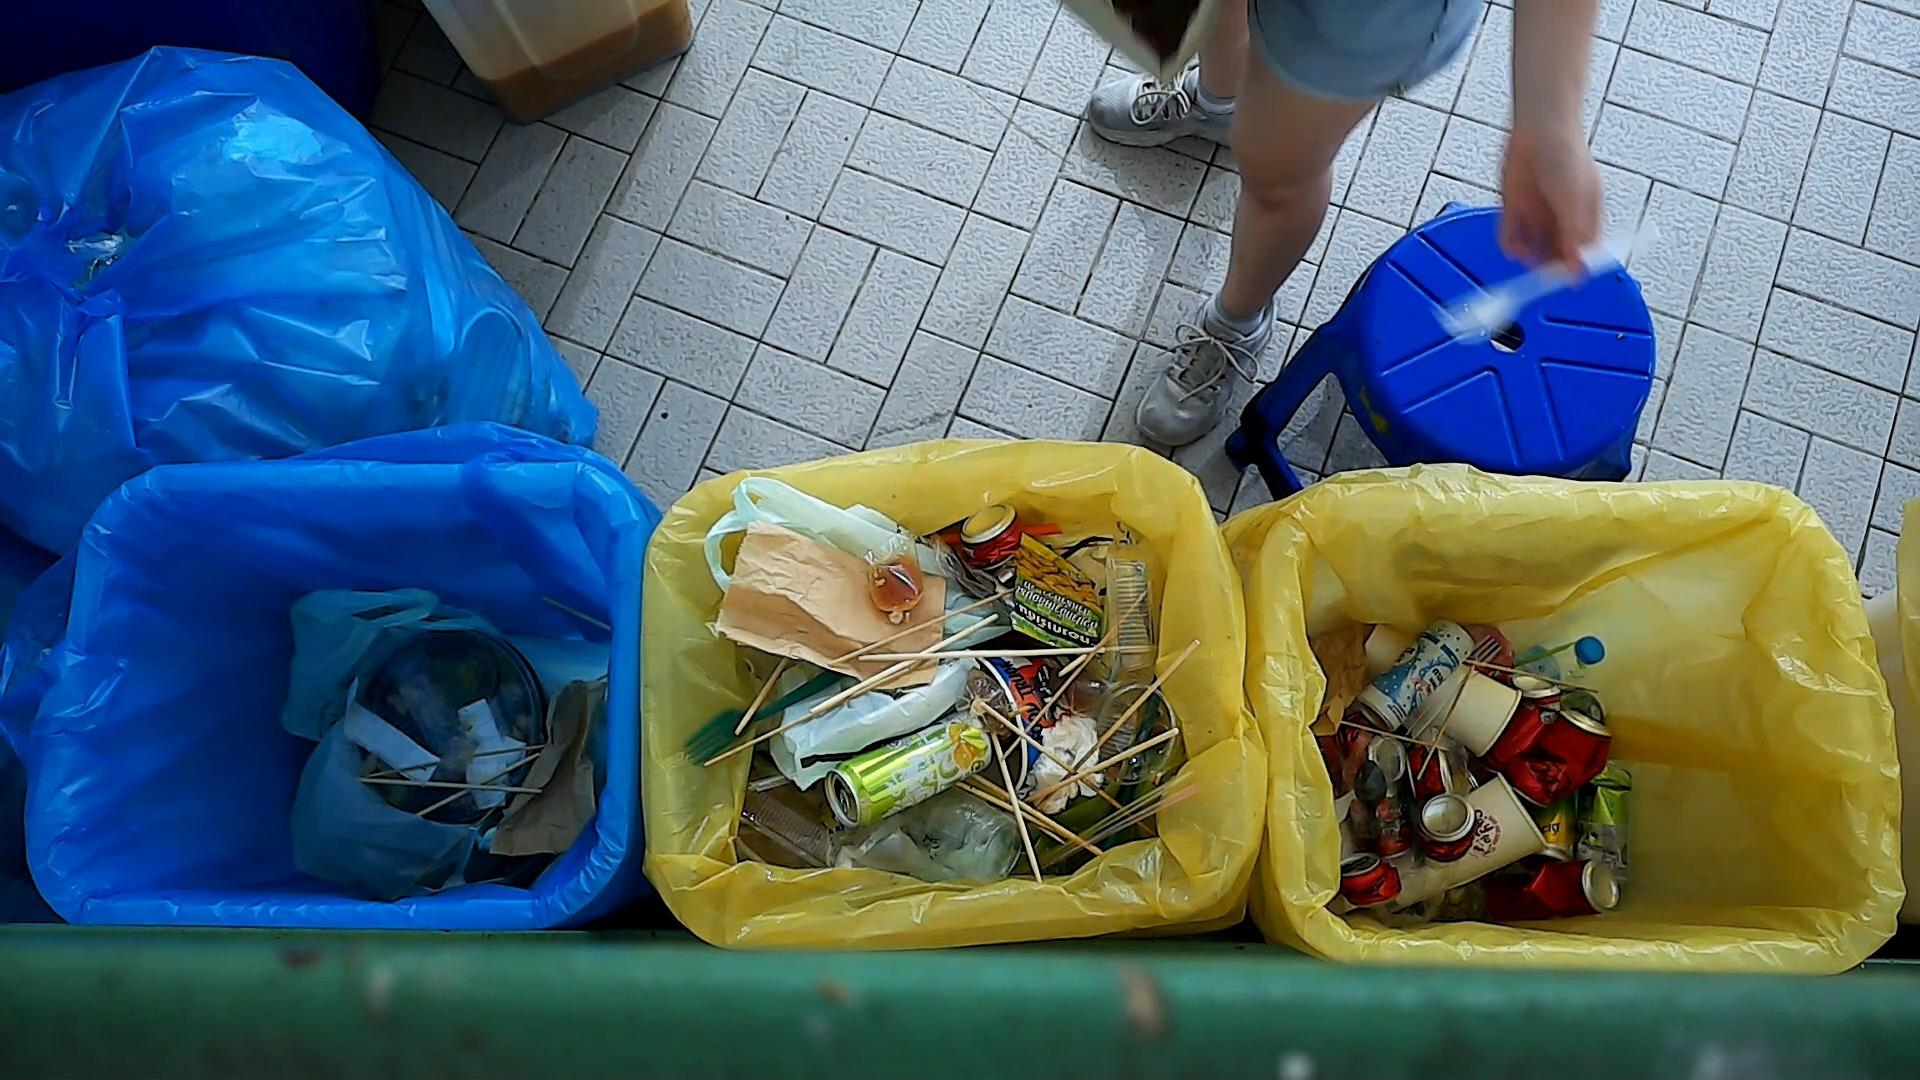can: (822, 704, 994, 836), (1358, 618, 1477, 732), (1506, 716, 1611, 811), (1481, 669, 1564, 770), (1578, 758, 1635, 886), (1523, 857, 1622, 918), (1327, 720, 1407, 789), (956, 500, 1027, 576), (1423, 793, 1490, 869), (1337, 857, 1407, 918), (1400, 745, 1458, 803), (1527, 808, 1580, 866)
filled plastic bag: (291, 609, 543, 887)
food container: (737, 787, 843, 868), (1106, 553, 1163, 673)
paper bag: (711, 502, 969, 698), (498, 671, 596, 864), (1309, 622, 1367, 736)
plastic bag: (766, 638, 984, 786)
plastic cutlery: (1428, 224, 1658, 347), (684, 665, 844, 762), (1406, 634, 1505, 742), (418, 794, 514, 891), (1350, 769, 1398, 877), (418, 764, 456, 890)
snack packaging: (1007, 518, 1113, 661)
sticks: (700, 662, 907, 771), (799, 617, 996, 713), (1035, 703, 1184, 810), (1000, 687, 1131, 803), (833, 585, 1015, 663), (1047, 567, 1114, 766), (413, 731, 545, 825), (957, 774, 1109, 855), (1104, 657, 1216, 753), (986, 728, 1044, 884), (1415, 661, 1478, 783), (841, 642, 1102, 670), (369, 740, 542, 777), (1456, 654, 1601, 698), (356, 773, 531, 806), (731, 651, 793, 737), (1336, 717, 1452, 753)
straw: (1044, 770, 1199, 868)
tissue paper: (439, 700, 524, 807), (1030, 716, 1101, 815)
zero waste cup: (1365, 624, 1523, 758), (1407, 770, 1552, 903)
